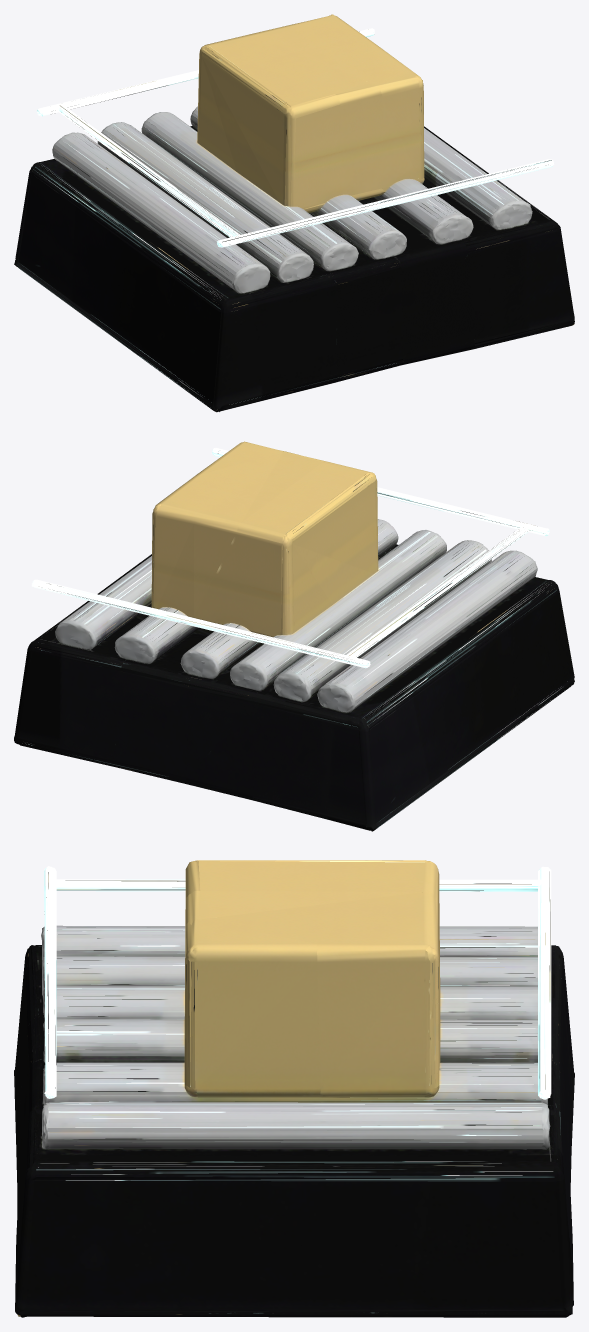
Rendered from logistics-belt.glb.
3 renders of one model, top to bottom at view 1: azimuth 30°, elevation 25°; view 2: azimuth 150°, elevation 25°; view 3: azimuth 270°, elevation 25°, orthographic. The views are drawn at different scales.
Size of the model in its own units: 1 by 0.5996 by 0.9766.
1 material, 1 textured.
